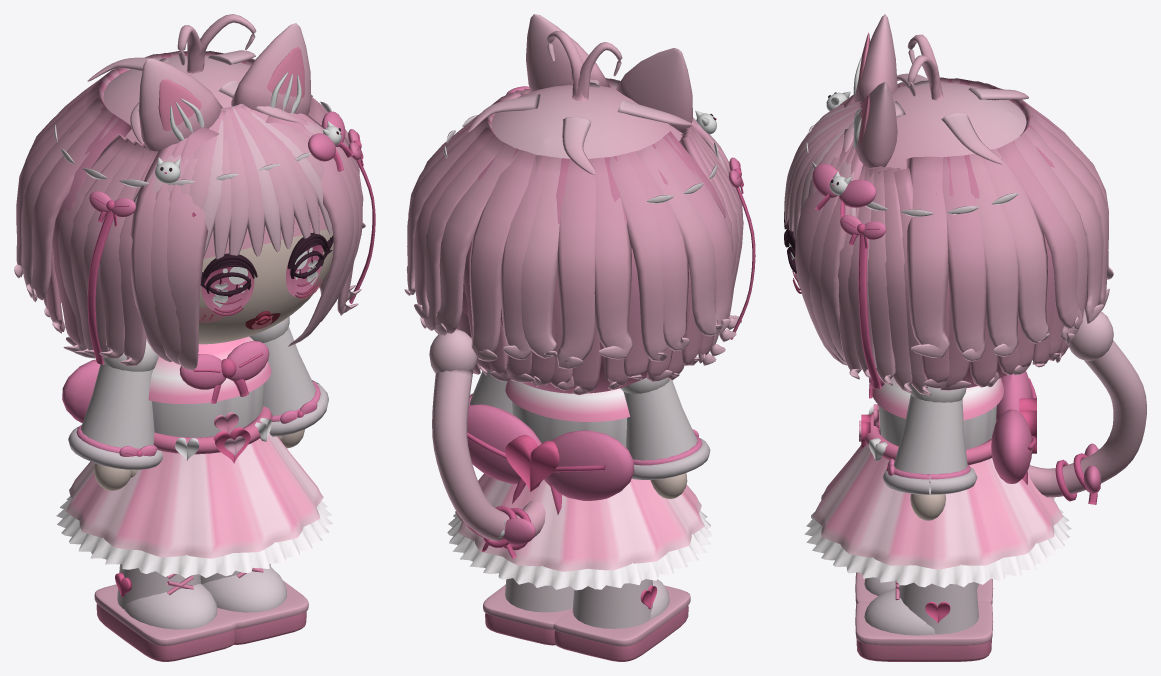
Rendered from miyu.glb.
3 views of the same model, side by side, from view 1: azimuth 30°, elevation 25°; view 2: azimuth 150°, elevation 25°; view 3: azimuth 270°, elevation 25° (orthographic). The views are drawn at different scales.
Visible parts, largest first — view 1: head, body, legL, armL, legR, earL, armR, earR, eyes_surprised, eyes_normal, eyes_happy; view 2: head, body, tail, legL, armL, legR, earL, earR, armR; view 3: head, body, legR, tail, armR, earR, earL, legL.
Boxes of the visible parts, <box> form: head: <box>14,14,375,369</box>; body: <box>56,336,332,578</box>; legL: <box>94,564,235,661</box>; armL: <box>68,339,162,490</box>; legR: <box>200,564,308,644</box>; earL: <box>138,58,222,151</box>; armR: <box>249,316,328,448</box>; earR: <box>231,23,311,114</box>; eyes_surprised: <box>200,232,333,315</box>; eyes_normal: <box>201,237,333,312</box>; eyes_happy: <box>201,250,326,293</box>; head: <box>404,30,755,395</box>; body: <box>447,377,712,590</box>; tail: <box>429,329,545,559</box>; legL: <box>553,579,690,661</box>; armL: <box>620,378,710,498</box>; legR: <box>483,578,574,645</box>; earL: <box>615,48,692,132</box>; earR: <box>526,14,610,92</box>; armR: <box>469,370,512,414</box>; head: <box>784,34,1113,395</box>; body: <box>804,371,1071,587</box>; legR: <box>855,580,993,661</box>; tail: <box>1027,309,1146,504</box>; armR: <box>882,384,977,520</box>; earR: <box>853,82,897,167</box>; earL: <box>853,14,897,101</box>; legL: <box>855,572,993,604</box>.
Bounding box in the file's own units: 0.9045 × 1.66 × 0.9322.
